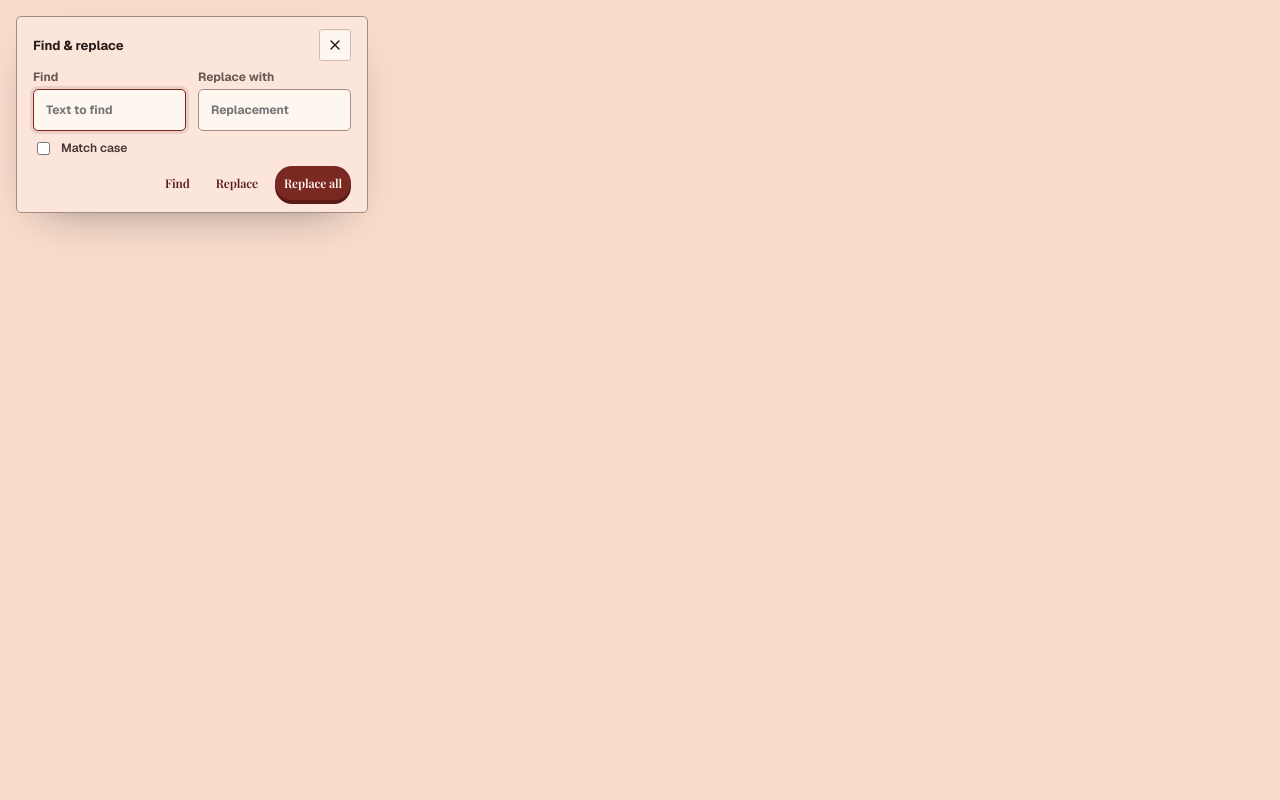
Test case: FindReplaceDialog - find › cycles through matches, flags each on its page, and wraps with an end-of-document status
Type "hello" into the field labelled "Find".
click(110, 110); type("hello")  # box x1=33 y1=89 x2=186 y2=131
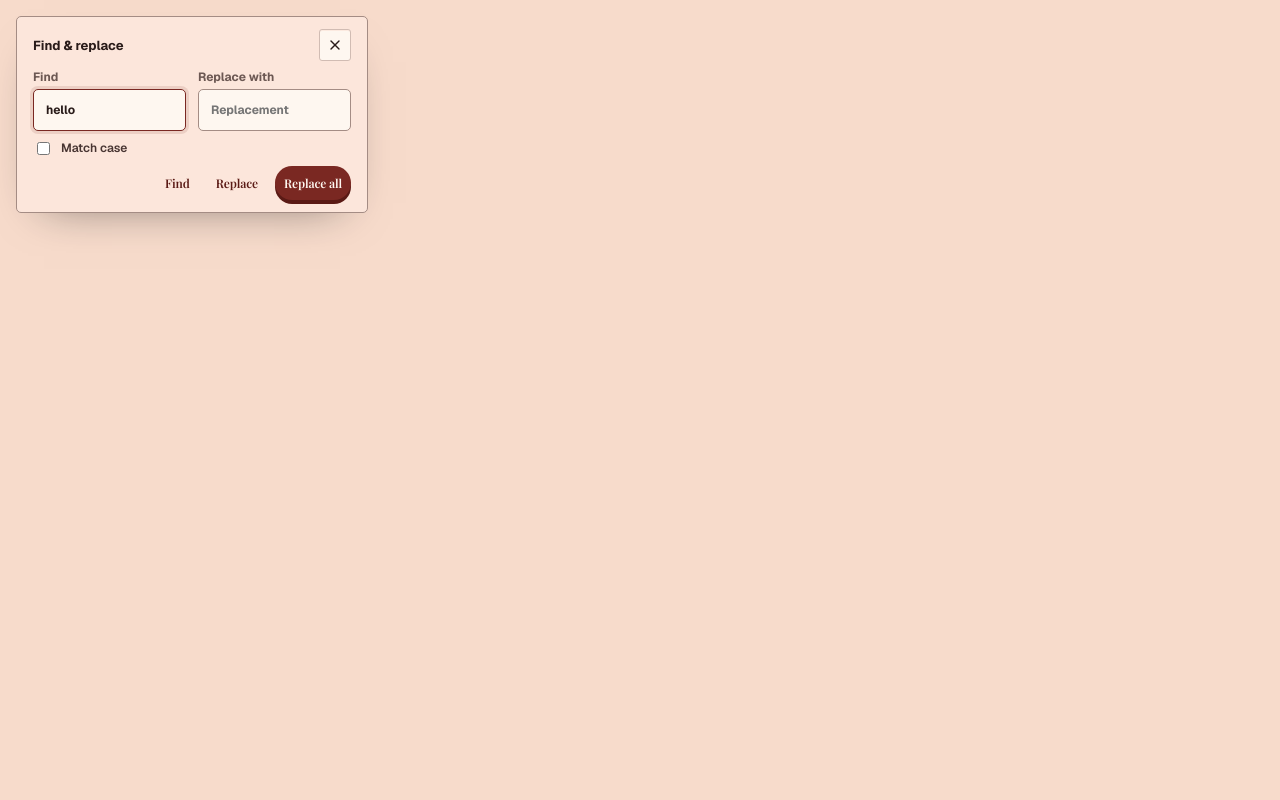
Click the button "Find".
click(177, 183)  # box x1=156 y1=166 x2=199 y2=200
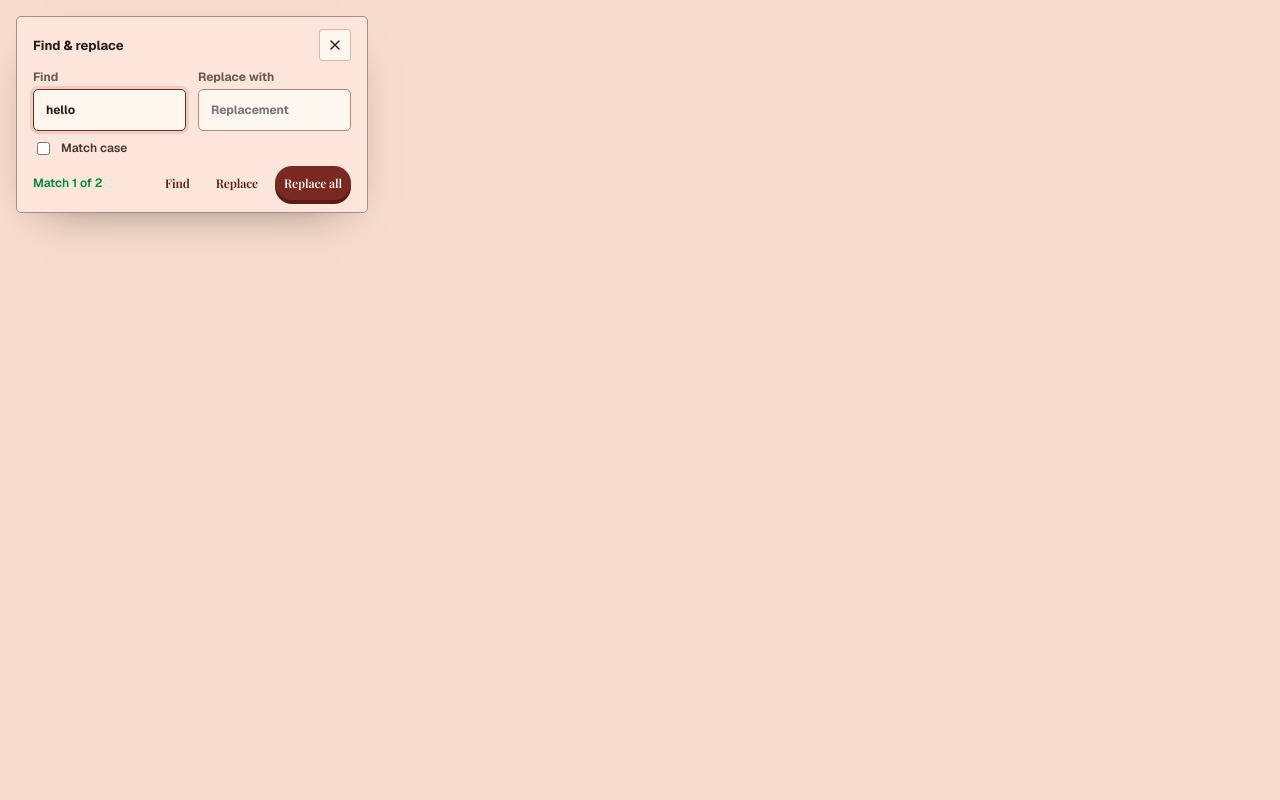
Now the message reads "Match 1 of 2", box x1=33 y1=175 x2=102 y2=191
Click the button "Find".
click(177, 183)  # box x1=156 y1=166 x2=199 y2=200
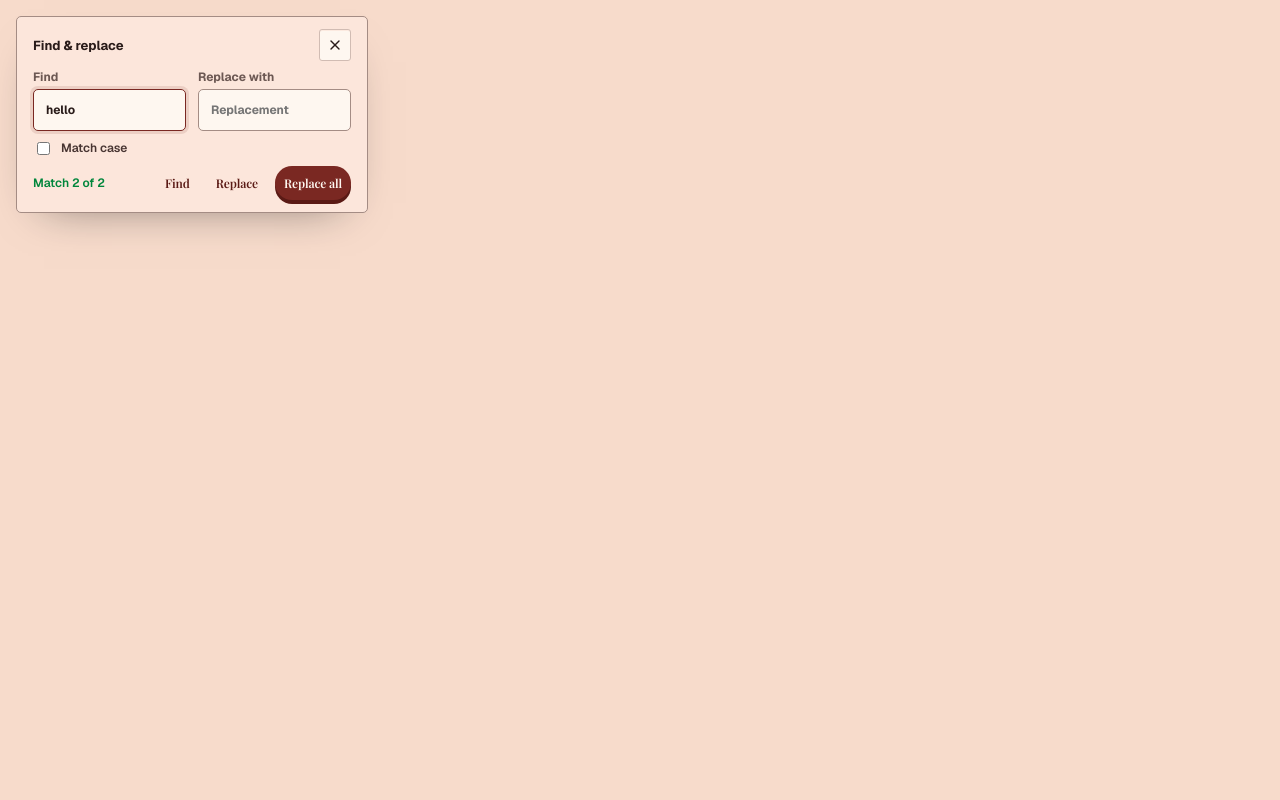
Now the message reads "Match 2 of 2", box x1=33 y1=175 x2=105 y2=191
Click the button "Find".
click(177, 183)  # box x1=156 y1=166 x2=199 y2=200
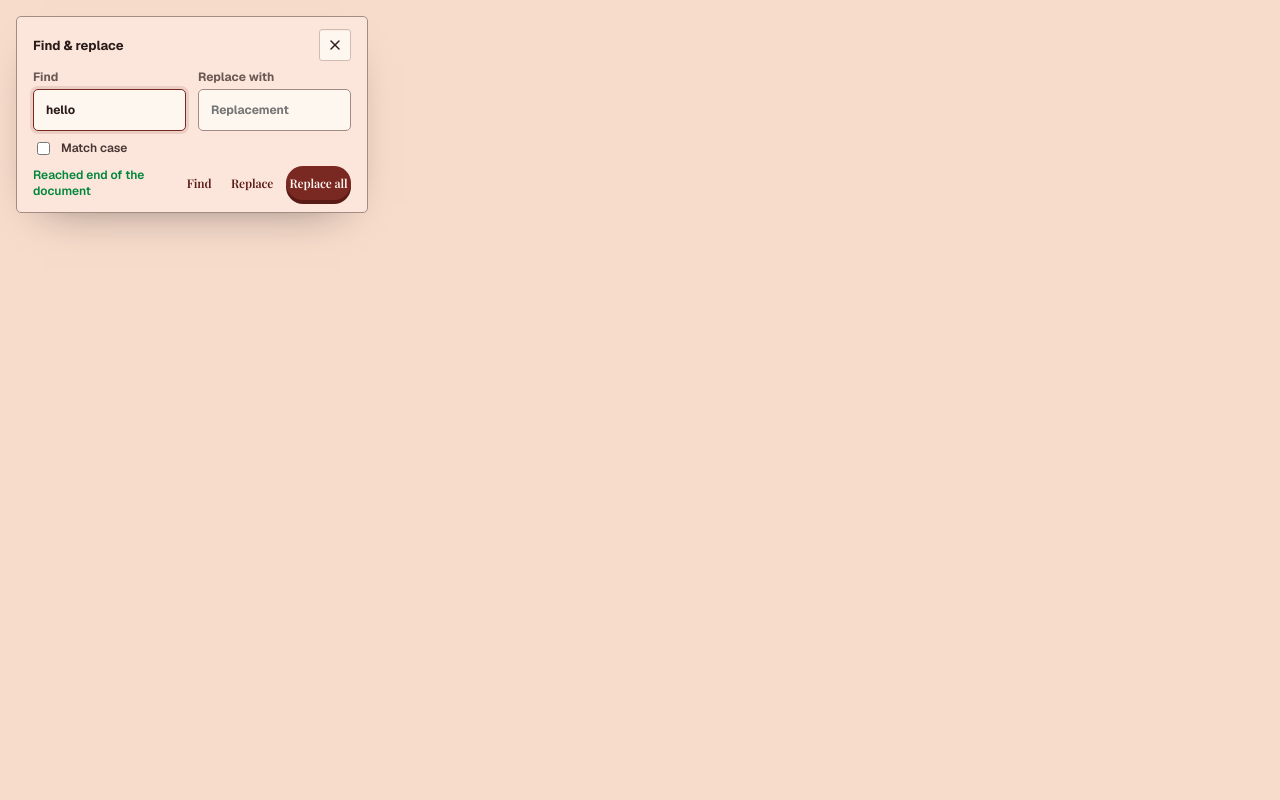
Now the message reads "Reached end of the document", box x1=33 y1=167 x2=144 y2=199
